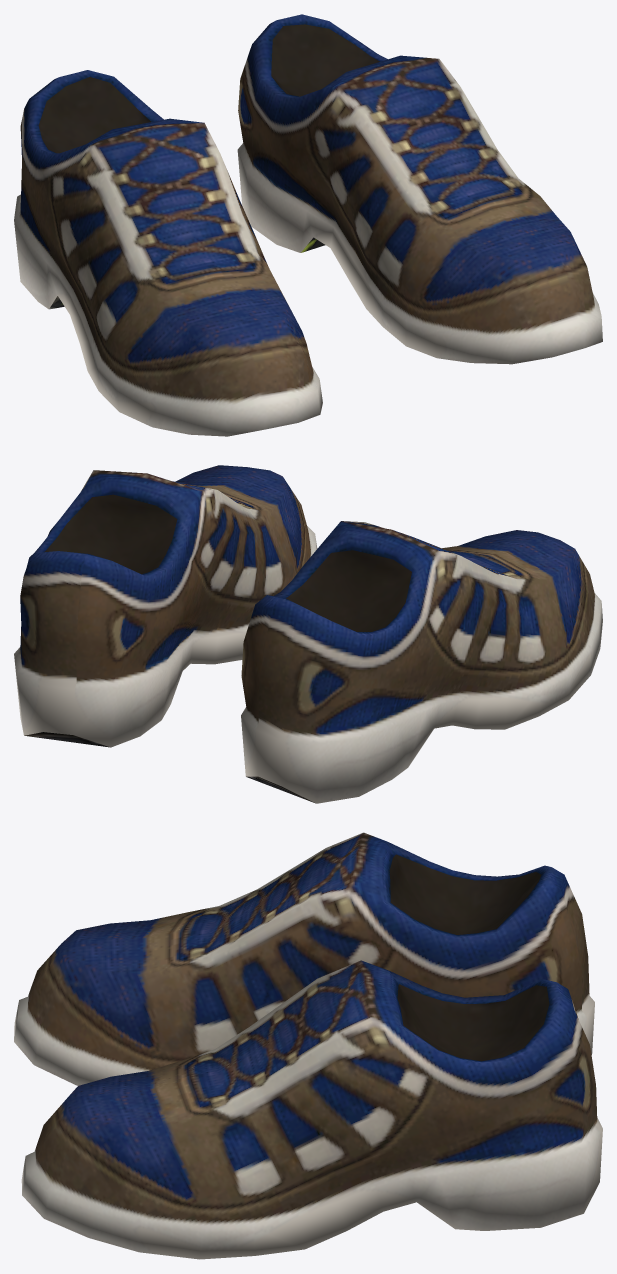
The model's file is Shoes 7.FBX.
The picture shows the model from 3 angles, top to bottom: view 1: azimuth 30°, elevation 25°; view 2: azimuth 150°, elevation 25°; view 3: azimuth 270°, elevation 25°; orthographic projection. The views are drawn at different scales.
Parts seen in each view (by area): view 1: left shoe, right shoe; view 2: right shoe, left shoe; view 3: left shoe, right shoe.
Part boxes in pixels (x1=…): left shoe: x1=237, y1=14, x2=602, y2=364; right shoe: x1=14, y1=70, x2=322, y2=436; right shoe: x1=241, y1=521, x2=602, y2=803; left shoe: x1=14, y1=465, x2=317, y2=747; left shoe: x1=21, y1=960, x2=602, y2=1259; right shoe: x1=14, y1=832, x2=594, y2=1085.
Bounding box in the file's own units: 30.34 × 30.96 × 12.86.
1 material, 1 textured.
